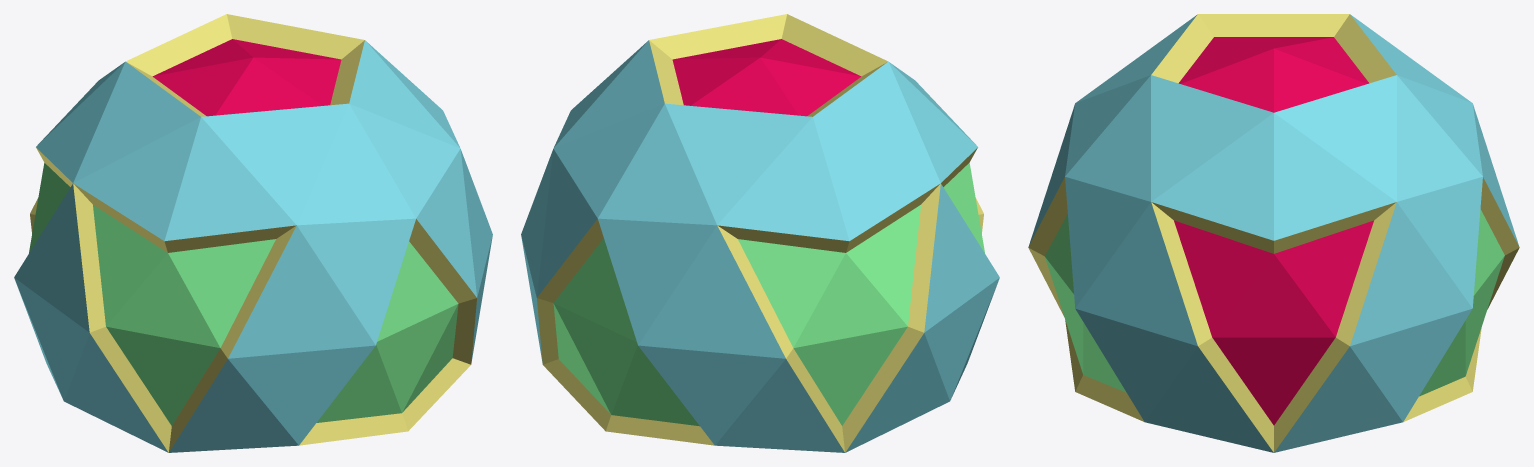
Rendered from Orb.fbx.
The picture shows the model from 3 angles, left to right: view 1: azimuth 30°, elevation 25°; view 2: azimuth 150°, elevation 25°; view 3: azimuth 270°, elevation 25°; orthographic projection.
Visible parts, largest first — view 1: Icosphere; view 2: Icosphere; view 3: Icosphere.
Boxes of the visible parts, box(x1,y1,x2,y2) form: Icosphere: box(14, 14, 492, 452); Icosphere: box(521, 14, 999, 452); Icosphere: box(1028, 14, 1519, 452).
Size of the model in its own units: 190 by 142 by 200.
